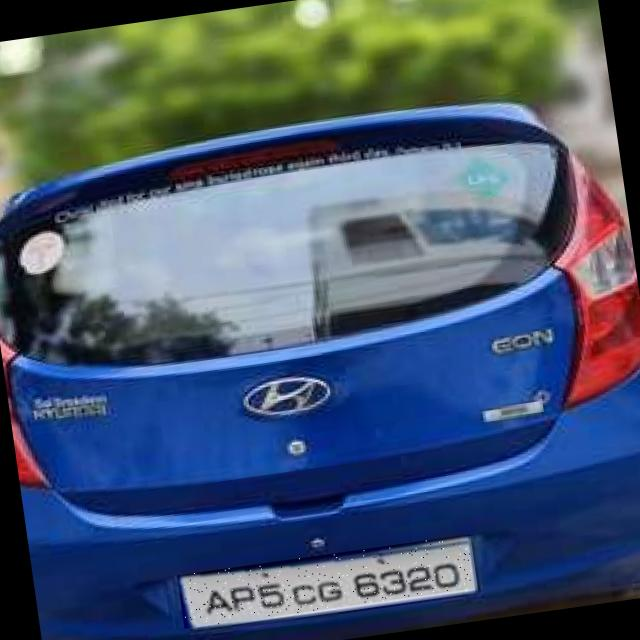Plate: (178, 536, 476, 630)
